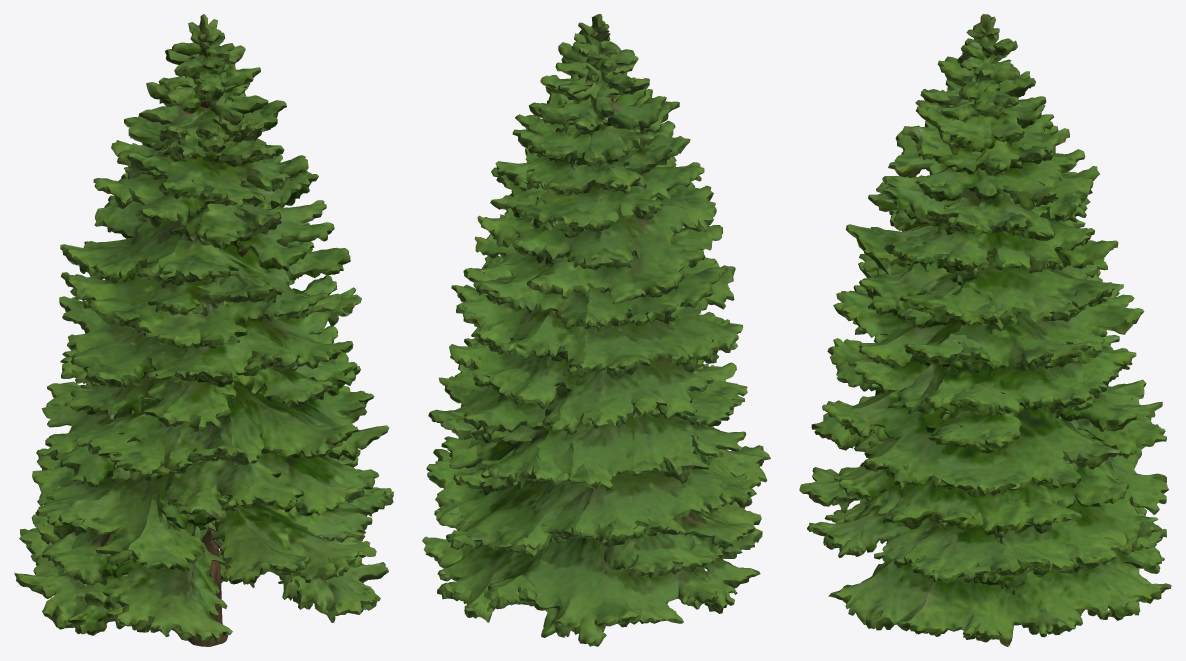
Rendered from fir-mature.glb.
3 renders of one model, left to right at view 1: azimuth 30°, elevation 25°; view 2: azimuth 150°, elevation 25°; view 3: azimuth 270°, elevation 25°, orthographic. The views are drawn at different scales.
Parts seen in each view (by area): view 1: geometry_0; view 2: geometry_0; view 3: geometry_0.
Part boxes in pixels (x1,y1,x2,y2): geometry_0: (14,14,393,646); geometry_0: (422,14,770,646); geometry_0: (799,14,1171,646).
Size of the model in its own units: 431376 by 786408 by 435984.
Materials: 1 (1 with a texture image).
